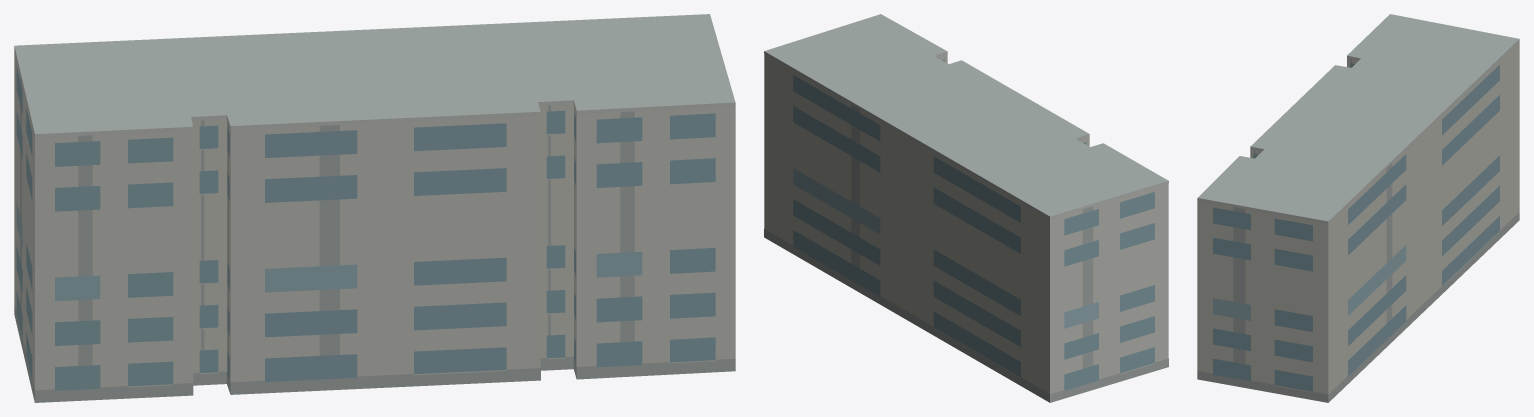
The model's file is survey-upis-32672083.glb.
The picture shows the model from 3 angles, left to right: view 1: azimuth 30°, elevation 25°; view 2: azimuth 150°, elevation 25°; view 3: azimuth 270°, elevation 25°; orthographic projection. The views are drawn at different scales.
Parts seen in each view (by area): view 1: survey-upis-32672083.tmp; view 2: survey-upis-32672083.tmp; view 3: survey-upis-32672083.tmp.
Part boxes in pixels (left/top/right/bottom): survey-upis-32672083.tmp: left=14, top=14, right=735, bottom=402; survey-upis-32672083.tmp: left=764, top=14, right=1168, bottom=402; survey-upis-32672083.tmp: left=1197, top=14, right=1519, bottom=402.
Bounding box in the file's own units: 42.16 × 17.2 × 27.68.
